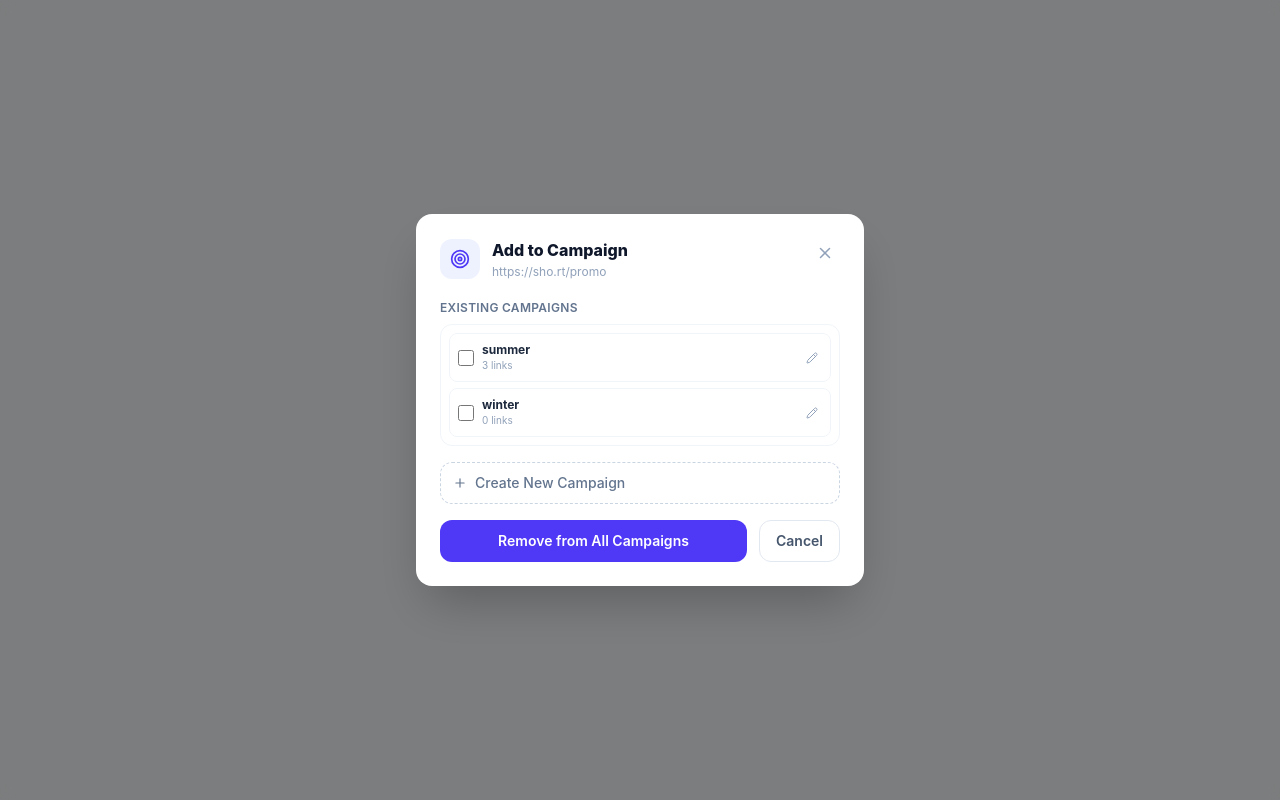
it: AddToCampaignModal - campaign list › toggling a campaign reveals its source/medium inputs and updates the save label
Expected: the button "Remove from All Campaigns" is shown, [440,520,747,562]
Click the checkbox next to "summer": coordinates (466, 358) [458,350,474,366]
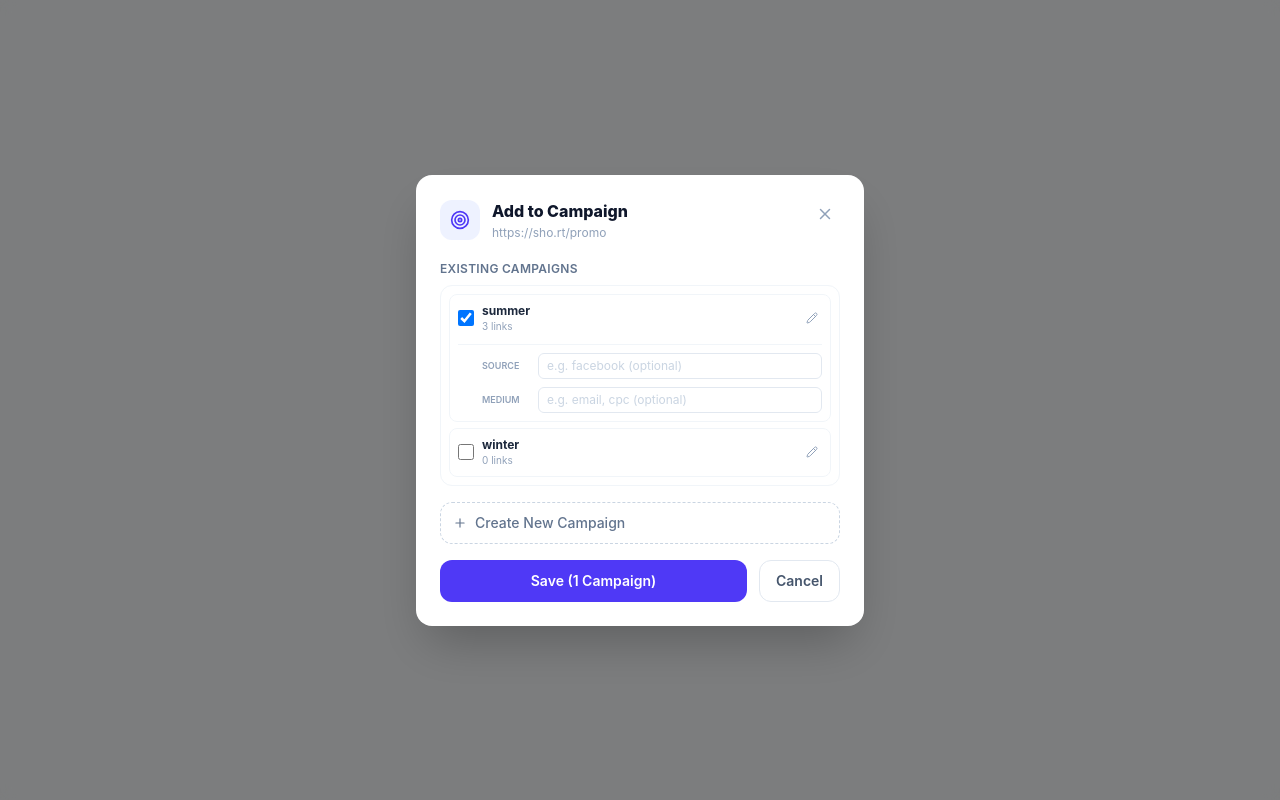
Result: the field with placeholder "e.g. facebook (optional)" is shown at [538,352,822,378]
Result: the button "Save (1 Campaign)" is shown at [440,560,747,602]
Click the checkbox next to "winter": coordinates (466, 452) [458,444,474,460]
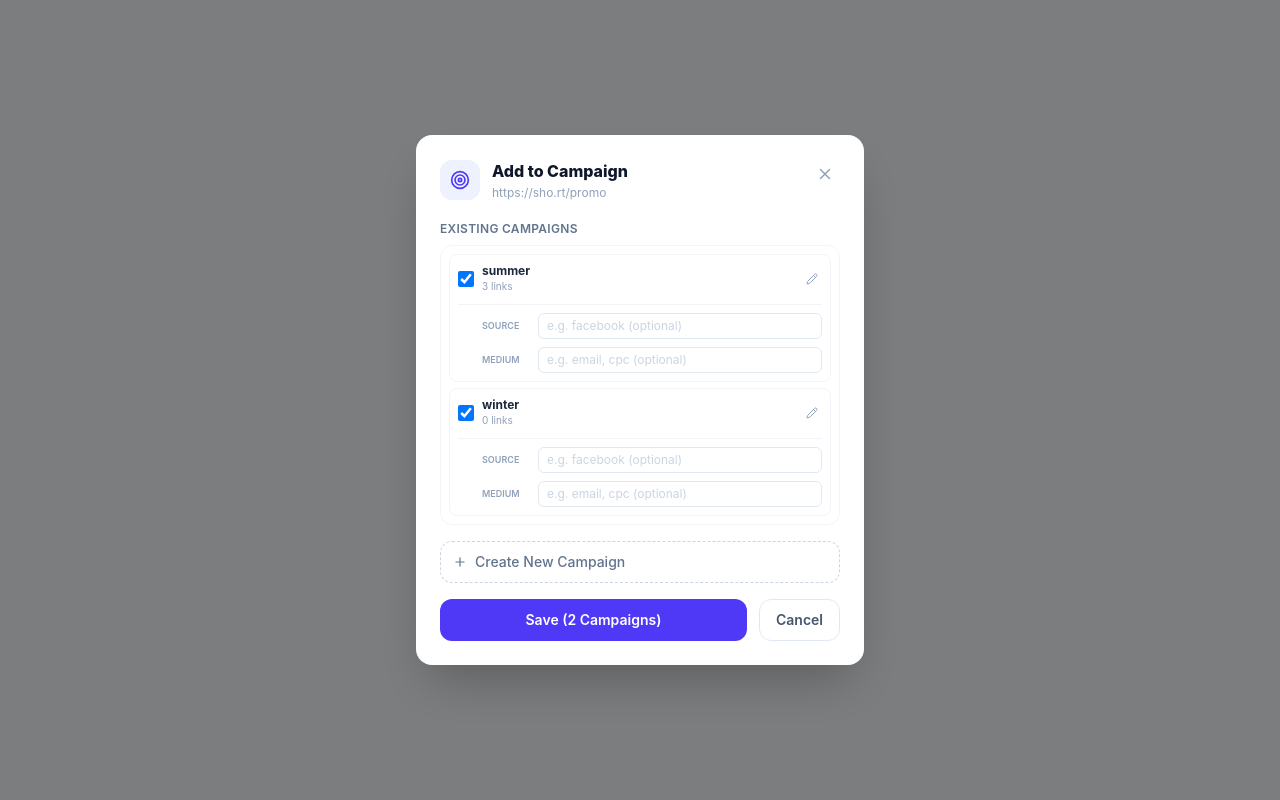
Result: the button "Save (2 Campaigns)" is shown at [440,599,747,641]
